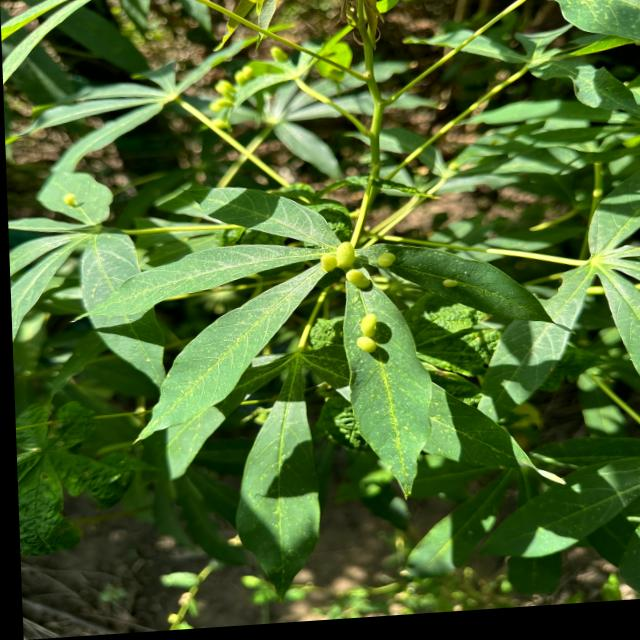Mosca: (305, 239, 397, 289), (208, 70, 240, 132), (356, 309, 384, 358), (226, 57, 265, 87), (434, 269, 467, 293), (56, 186, 80, 214), (268, 41, 295, 63)
